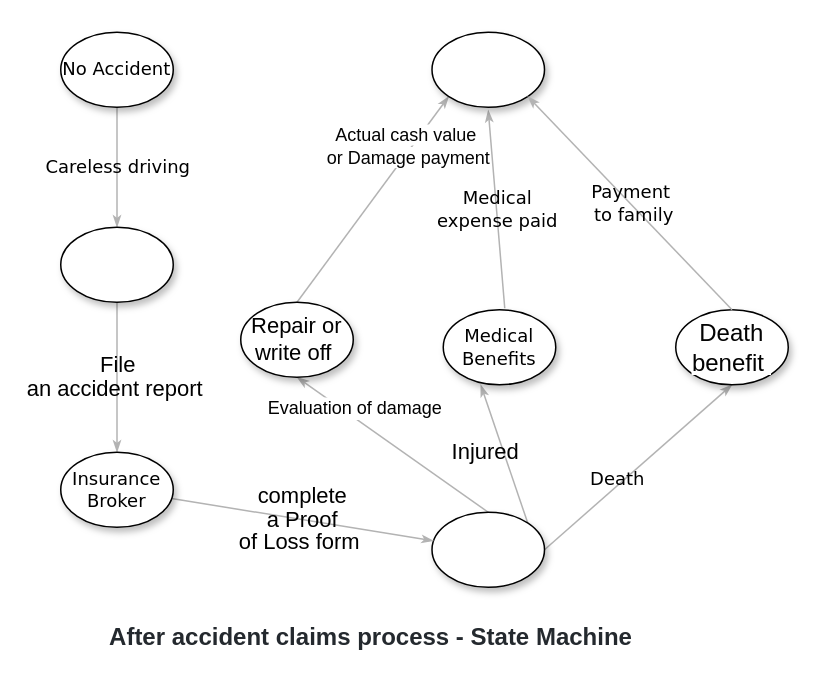
Some shapes in this 824 by 678 pixel diagram are drawn without their labels. The centre of each missing label's shape, as x and y in pixels:
Accident: point 117,266
Claim closure: point 489,71
Fault determined: point 489,551
